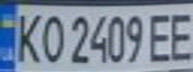0: (106, 11, 127, 64)
2: (66, 11, 90, 64)
4: (87, 10, 109, 64)
9: (124, 10, 148, 64)
E: (145, 9, 178, 63), (163, 8, 193, 62)
K: (9, 8, 45, 64)
O: (36, 10, 66, 64)
